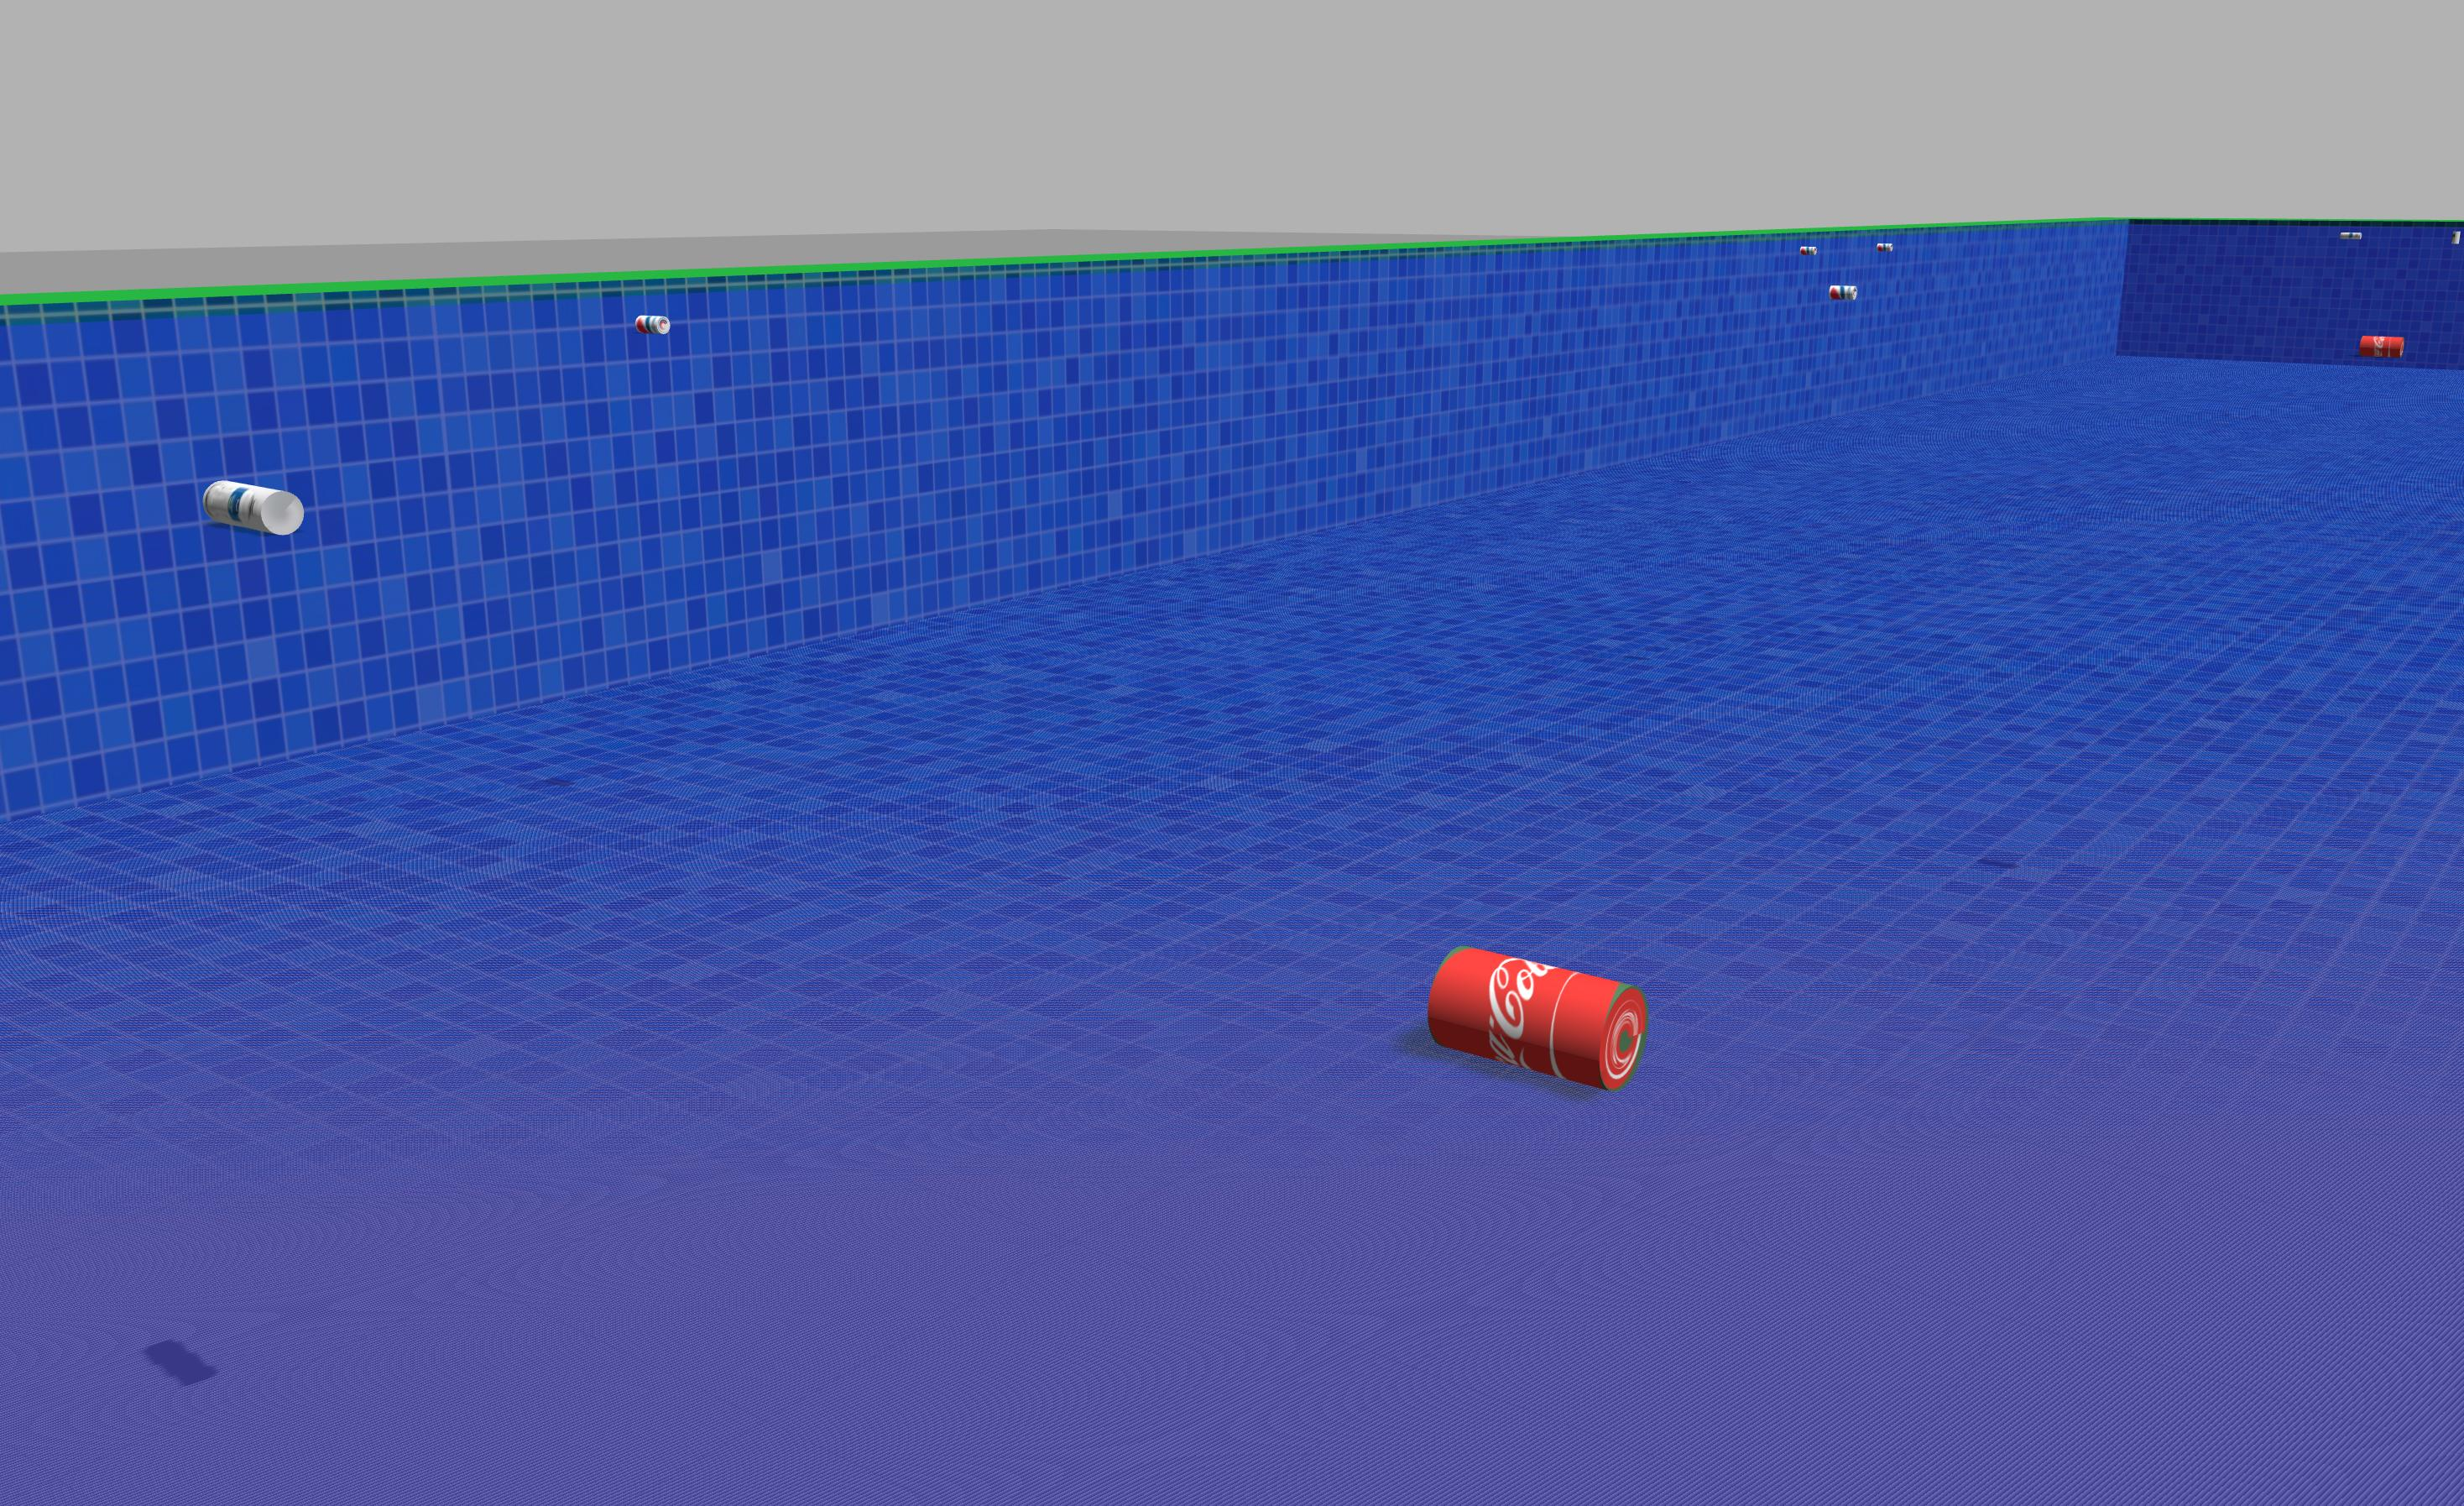Can: (1417, 937, 1686, 1099), (185, 469, 315, 548), (2344, 322, 2415, 365)
